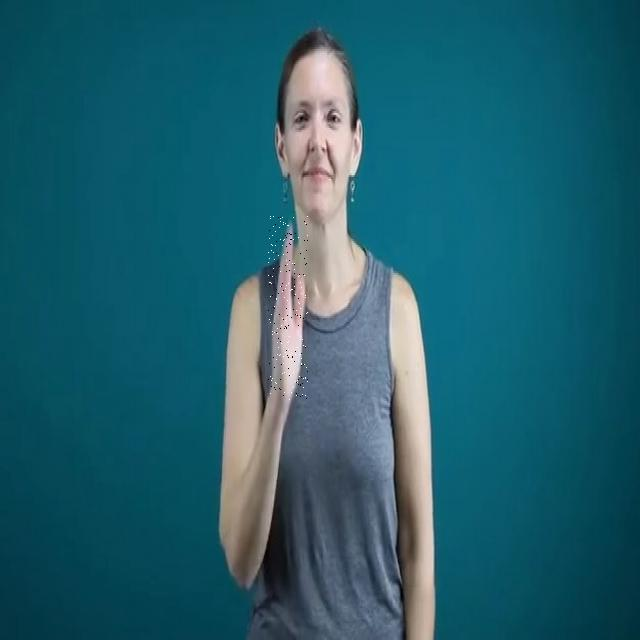napkin: (268, 216, 308, 400)
